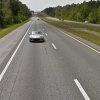Car: (24, 27, 54, 48)
